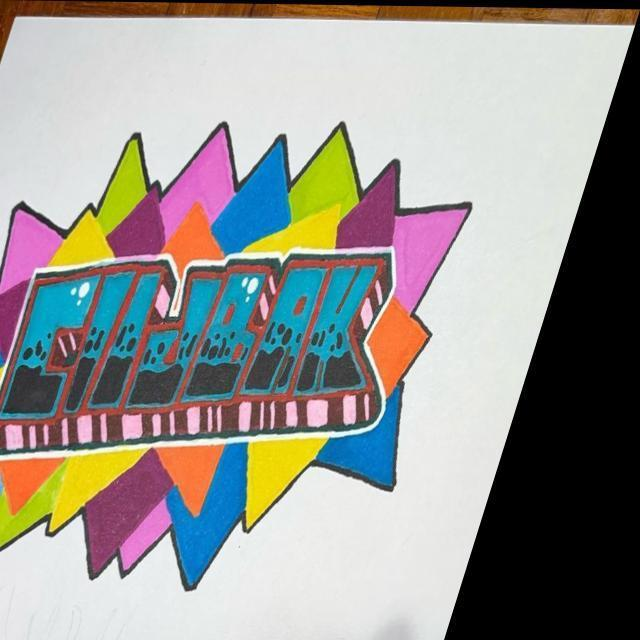-: (0, 174, 506, 566)
